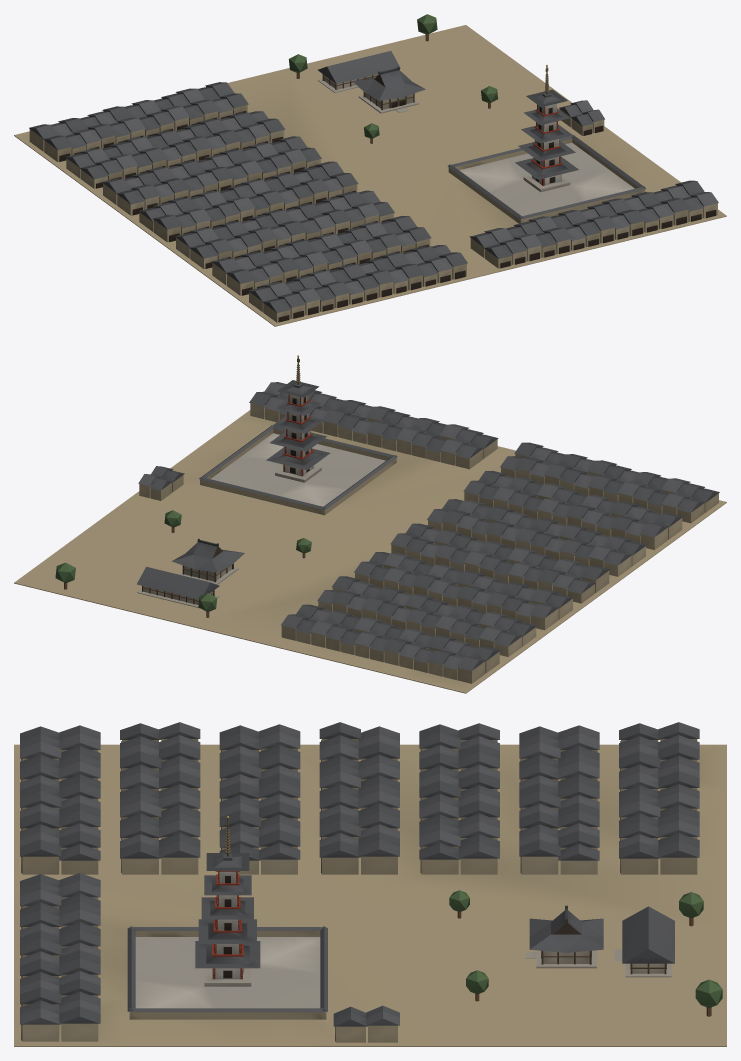
The model's file is gangoji-1700.glb.
The picture shows the model from 3 angles, top to bottom: view 1: azimuth 30°, elevation 25°; view 2: azimuth 150°, elevation 25°; view 3: azimuth 270°, elevation 25°; orthographic projection. The views are drawn at different scales.
Visible parts, largest first — view 1: p1_town, p0_grounds, p2_roofs; view 2: p1_town, p0_grounds, p2_roofs; view 3: p0_grounds, p1_town, p2_roofs.
Part boxes in pixels (bbox=[...]): p1_town: bbox=[29, 74, 718, 322]; p0_grounds: bbox=[14, 25, 726, 326]; p2_roofs: bbox=[288, 14, 578, 192]; p1_town: bbox=[137, 382, 719, 683]; p0_grounds: bbox=[14, 410, 726, 693]; p2_roofs: bbox=[55, 355, 330, 617]; p0_grounds: bbox=[14, 744, 726, 1046]; p1_town: bbox=[20, 722, 699, 1042]; p2_roofs: bbox=[195, 816, 722, 1016].
Bounding box in the file's own units: 200 × 50.43 × 200.
